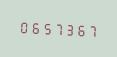five: (39, 19, 49, 36)
seven: (50, 19, 60, 37), (83, 21, 93, 38)
six: (72, 20, 82, 38), (28, 18, 38, 35)
three: (61, 20, 71, 37)
zero: (17, 17, 27, 35)
